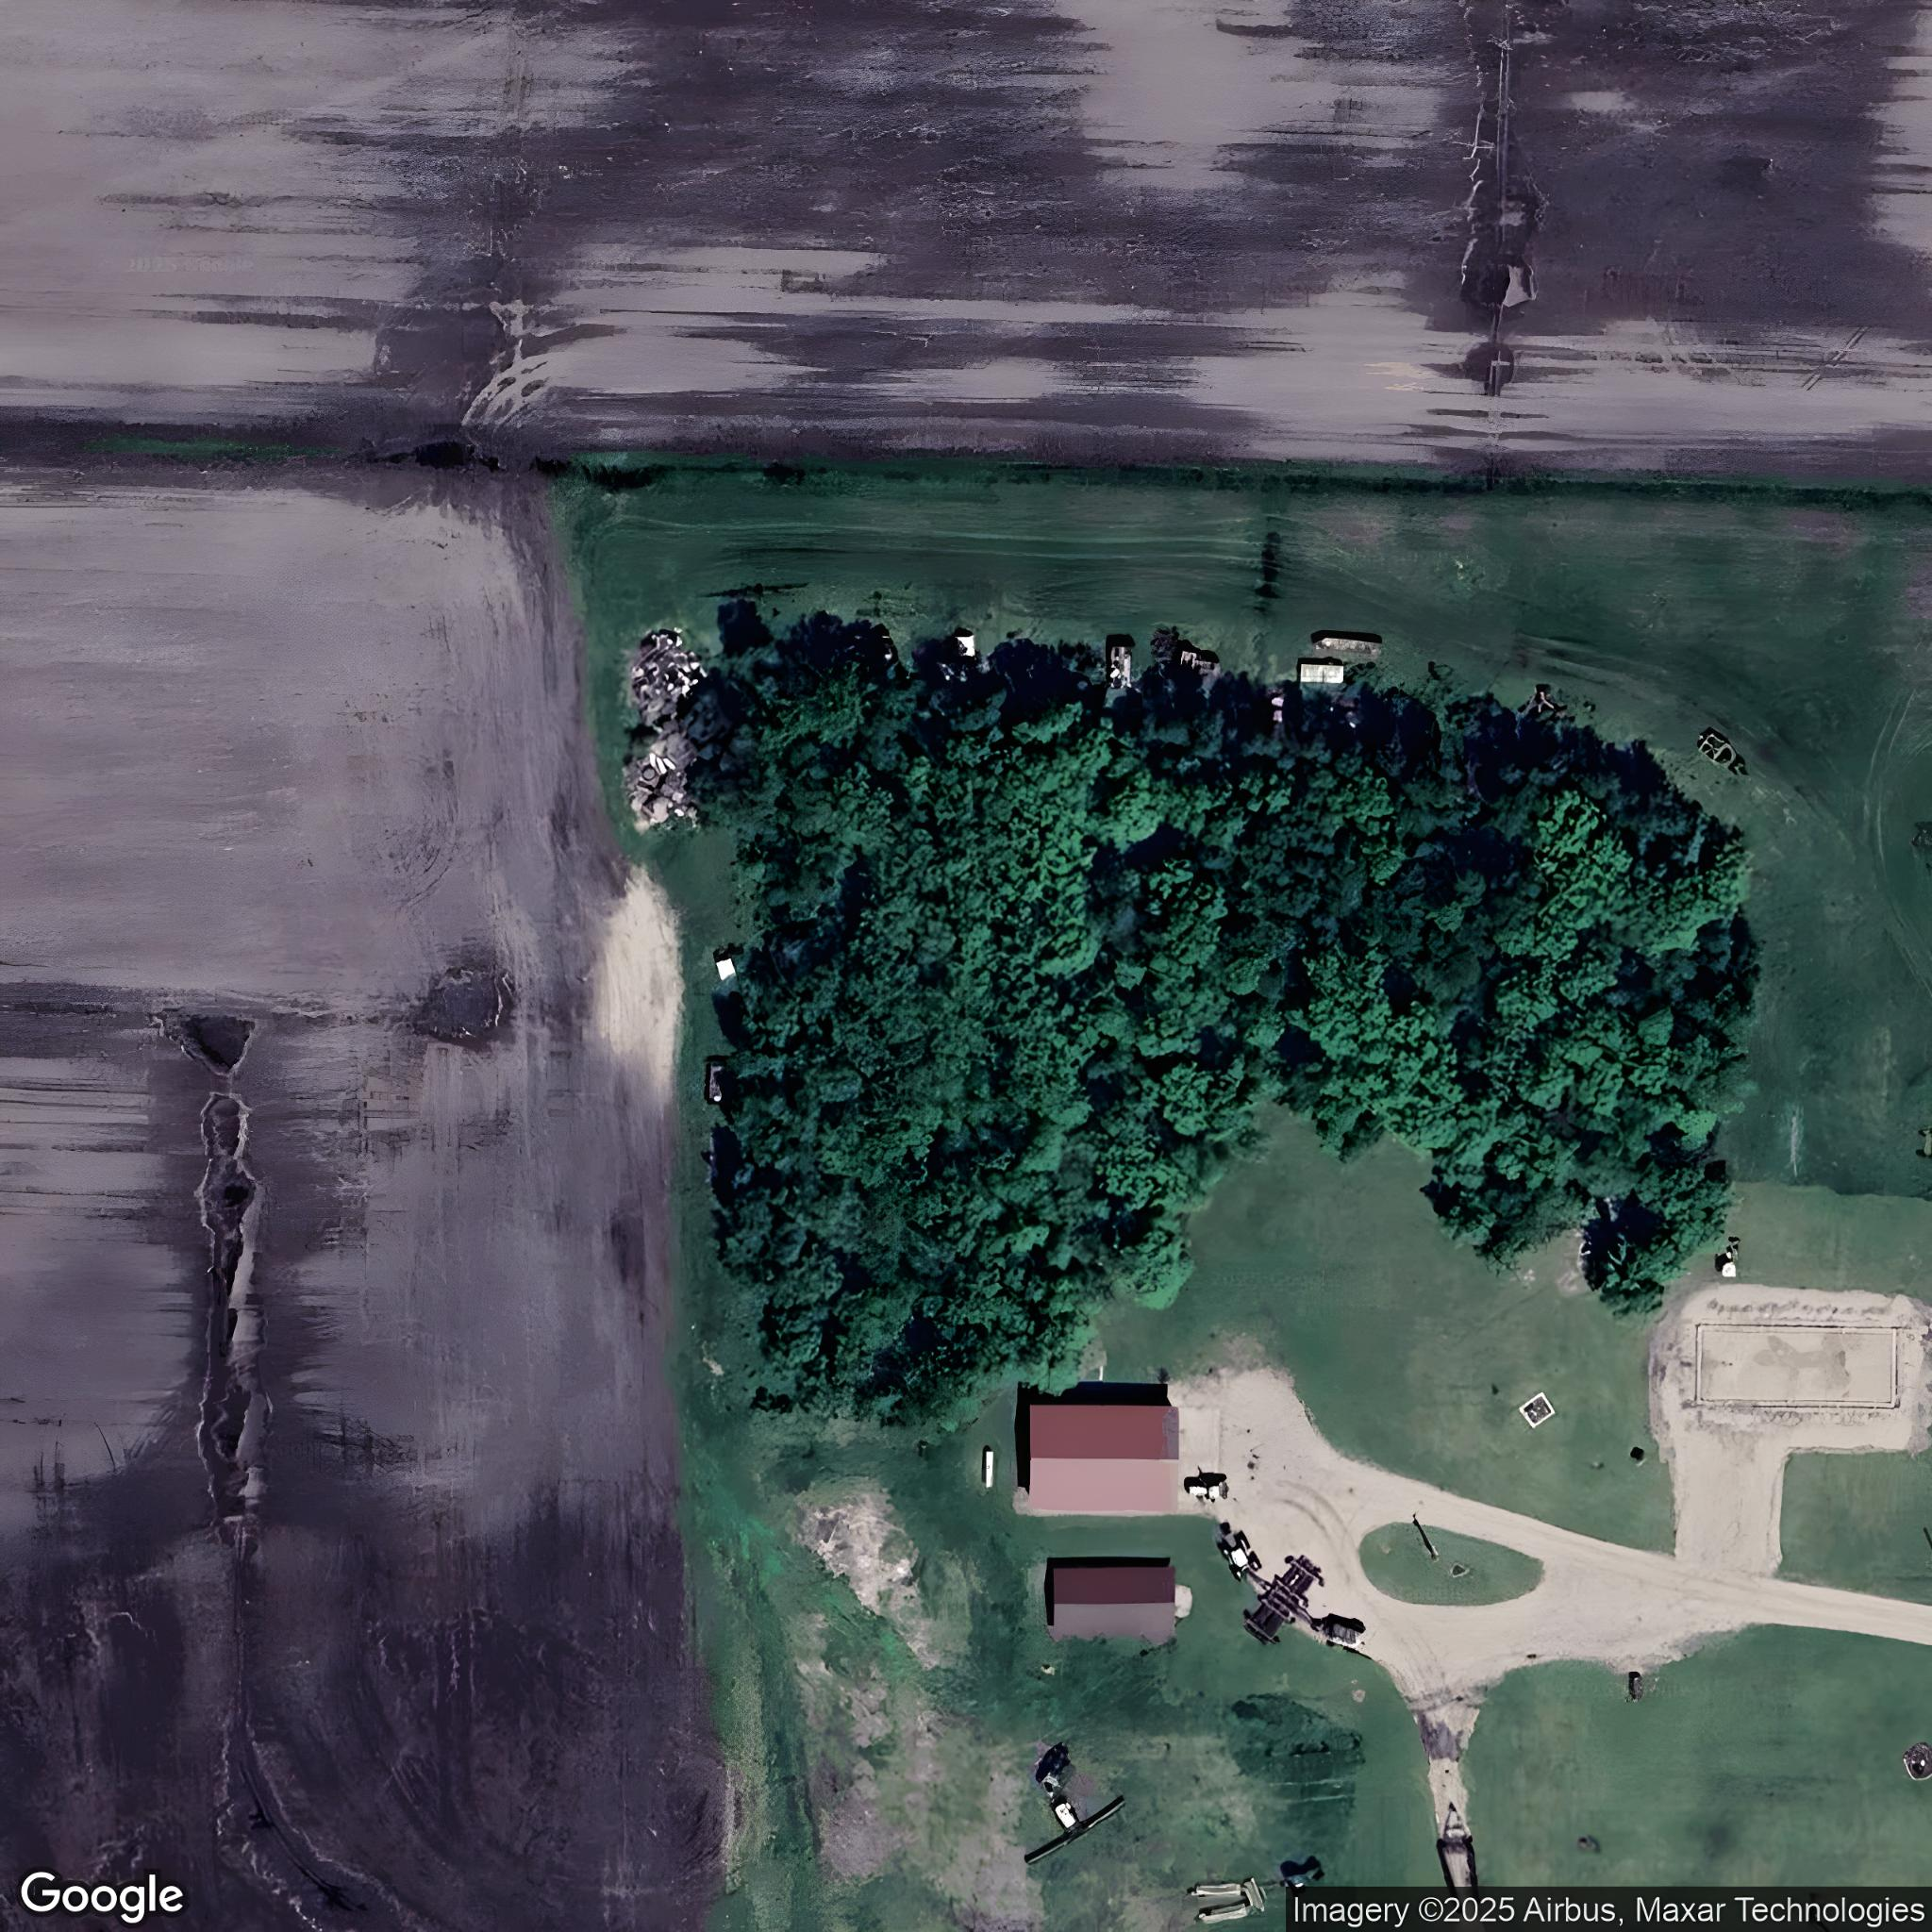Garage: (1051, 1566, 1175, 1644)
House: (1028, 1405, 1178, 1509)
Propane: (982, 1447, 998, 1493)
